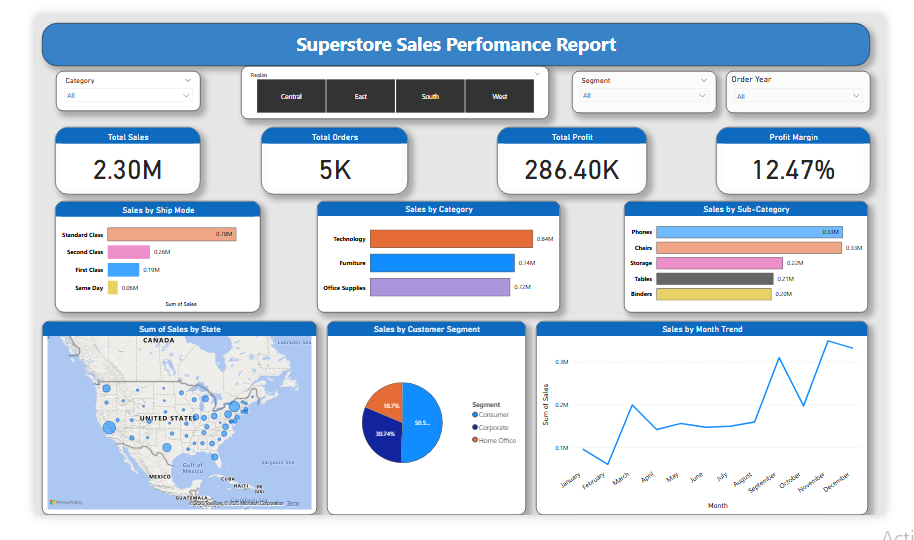

Layout of this report page (visuals, bound fields, positions):
{"tool":"powerbi","page":{"name":"Page 1","canvas":[1700,1000],"ordinal":0},"visuals":[{"type":"clusteredBarChart","title":" Sales by Category","fields":{"Category":["Sample_Superstore_Cleaned1.Category"],"Y":["Sum(Sample_Superstore_Cleaned1.Sales)"]},"box":[564.8,372.9,486.2,223],"z":0},{"type":"clusteredBarChart","title":" Sales by Ship Mode","fields":{"Category":["Sample_Superstore_Cleaned1.Ship Mode"],"Y":["Sum(Sample_Superstore_Cleaned1.Sales)"]},"box":[40.2,372.9,411.3,223],"z":2000},{"type":"lineChart","title":" Sales by Month Trend","fields":{"Category":["Sample_Superstore_Cleaned1.Order Date.Variation.Date Hierarchy.Month"],"Y":["Sum(Sample_Superstore_Cleaned1.Sales)"]},"box":[1001.7,612.4,663.5,387.5],"z":3000},{"type":"map","fields":{"Category":["Sample_Superstore_Cleaned1.State"],"Size":["Sum(Sample_Superstore_Cleaned1.Sales)"]},"box":[14.6,612.4,550.2,387.5],"z":4000},{"type":"cardVisual","title":"Total Sales","fields":{"Data":["Sample_Superstore_Cleaned1.Total Sales"]},"box":[40.2,224.8,290.6,135.3],"z":4001},{"type":"textbox","box":[14.6,16.5,1656.1,85.9],"z":4002},{"type":"clusteredBarChart","title":" Sales by Sub-Category","fields":{"Y":["Sum(Sample_Superstore_Cleaned1.Sales)"],"Category":["Sample_Superstore_Cleaned1.Sub-Category"]},"box":[1177.2,372.9,488.1,223],"z":4003},{"type":"cardVisual","title":"Total Orders","fields":{"Data":["Sample_Superstore_Cleaned1.Total Orders"]},"box":[451.5,224.8,294.3,135.3],"z":4004},{"type":"cardVisual","title":"Total Profit","fields":{"Data":["Sample_Superstore_Cleaned1.Total Profit"]},"box":[923.1,224.8,299.8,135.3],"z":4006},{"type":"cardVisual","title":"Profit Margin","fields":{"Data":["Sample_Superstore_Cleaned1.Profit Margin"]},"box":[1361.8,224.8,308.9,135.3],"z":4007},{"type":"slicer","fields":{"Values":["Sample_Superstore_Cleaned1.Region"]},"box":[411.3,102.4,616,106],"z":4008},{"type":"slicer","fields":{"Values":["Sample_Superstore_Cleaned1.Category"]},"box":[42,111.5,288.8,80.4],"z":4009},{"type":"slicer","fields":{"Values":["Sample_Superstore_Cleaned1.Segment"]},"box":[1073,111.5,288.8,84.1],"z":4010},{"type":"slicer","title":"Order Year","fields":{"Values":["Sample_Superstore_Cleaned1.Order Date.Variation.Date Hierarchy.Year"]},"box":[1381.9,111.5,288.8,84.1],"z":4011},{"type":"pieChart","title":" Sales by Customer Segment","fields":{"Category":["Sample_Superstore_Cleaned1.Segment"],"Y":["Sum(Sample_Superstore_Cleaned1.Sales)"]},"box":[583.1,612.4,398.5,387.5],"z":4012}]}

Visuals, with their boxes in screenshot pixels (x1, y1, x2, y2), scaled from the page's 1700x1000 canvas onto the 914x540 screenshot:
" Sales by Category" clusteredBarChart: [x1=304, y1=201, x2=565, y2=322]
" Sales by Ship Mode" clusteredBarChart: [x1=22, y1=201, x2=243, y2=322]
" Sales by Month Trend" lineChart: [x1=539, y1=331, x2=895, y2=539]
map - Sample_Superstore_Cleaned1.State x Sum(Sample_Superstore_Cleaned1.Sales): [x1=8, y1=331, x2=304, y2=539]
"Total Sales" cardVisual: [x1=22, y1=121, x2=178, y2=194]
textbox: [x1=8, y1=9, x2=898, y2=55]
" Sales by Sub-Category" clusteredBarChart: [x1=633, y1=201, x2=895, y2=322]
"Total Orders" cardVisual: [x1=243, y1=121, x2=401, y2=194]
"Total Profit" cardVisual: [x1=496, y1=121, x2=657, y2=194]
"Profit Margin" cardVisual: [x1=732, y1=121, x2=898, y2=194]
slicer - Sample_Superstore_Cleaned1.Region: [x1=221, y1=55, x2=552, y2=113]
slicer - Sample_Superstore_Cleaned1.Category: [x1=23, y1=60, x2=178, y2=104]
slicer - Sample_Superstore_Cleaned1.Segment: [x1=577, y1=60, x2=732, y2=106]
"Order Year" slicer: [x1=743, y1=60, x2=898, y2=106]
" Sales by Customer Segment" pieChart: [x1=314, y1=331, x2=528, y2=539]
